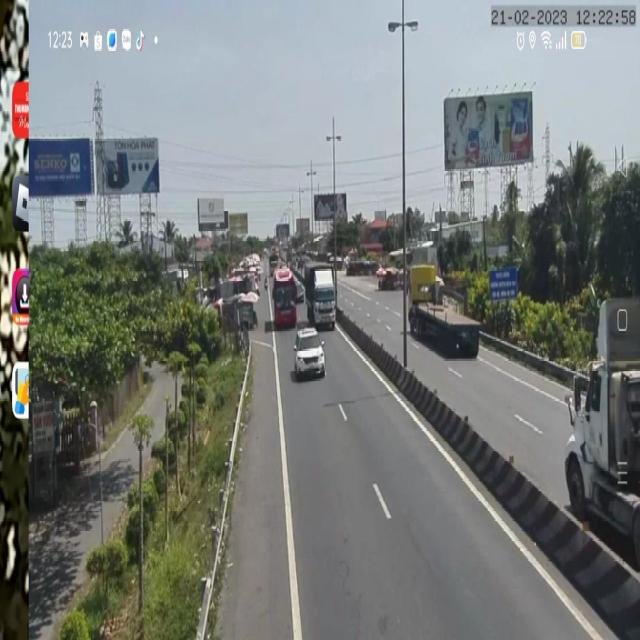bus: (272, 264, 298, 334)
car: (293, 325, 324, 379)
truck: (563, 298, 640, 571), (407, 264, 480, 356), (304, 263, 337, 335)
